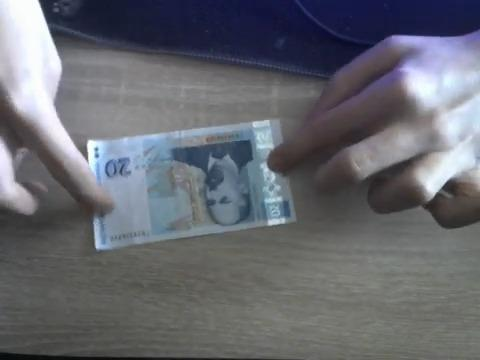20leva: (202, 155, 250, 227)
